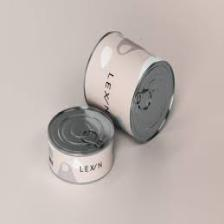metal: (77, 25, 181, 146), (44, 100, 122, 186)
